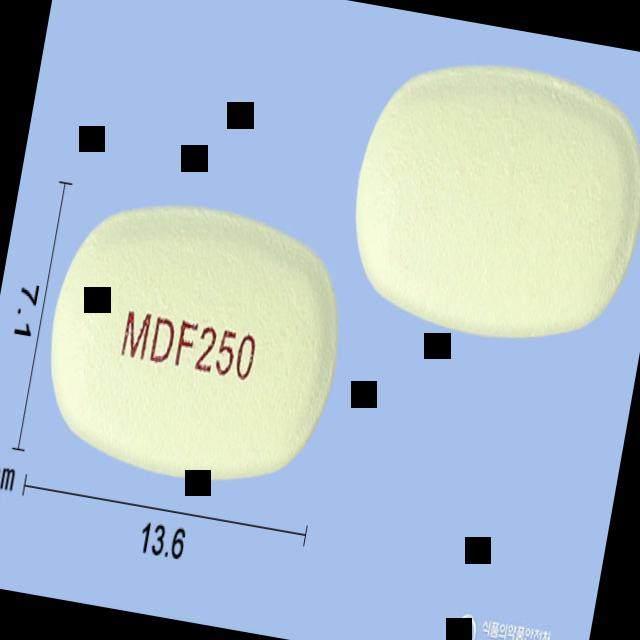CTcin: (30, 186, 358, 500), (334, 43, 640, 360)
